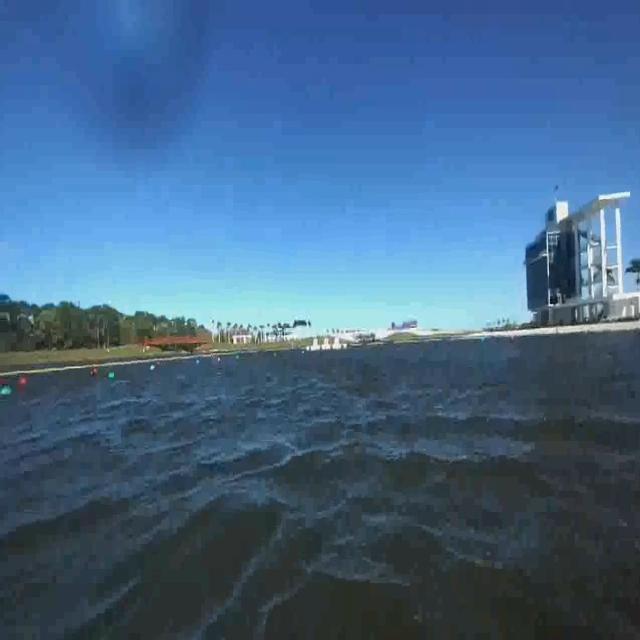green-buoy: (0, 385, 13, 394)
